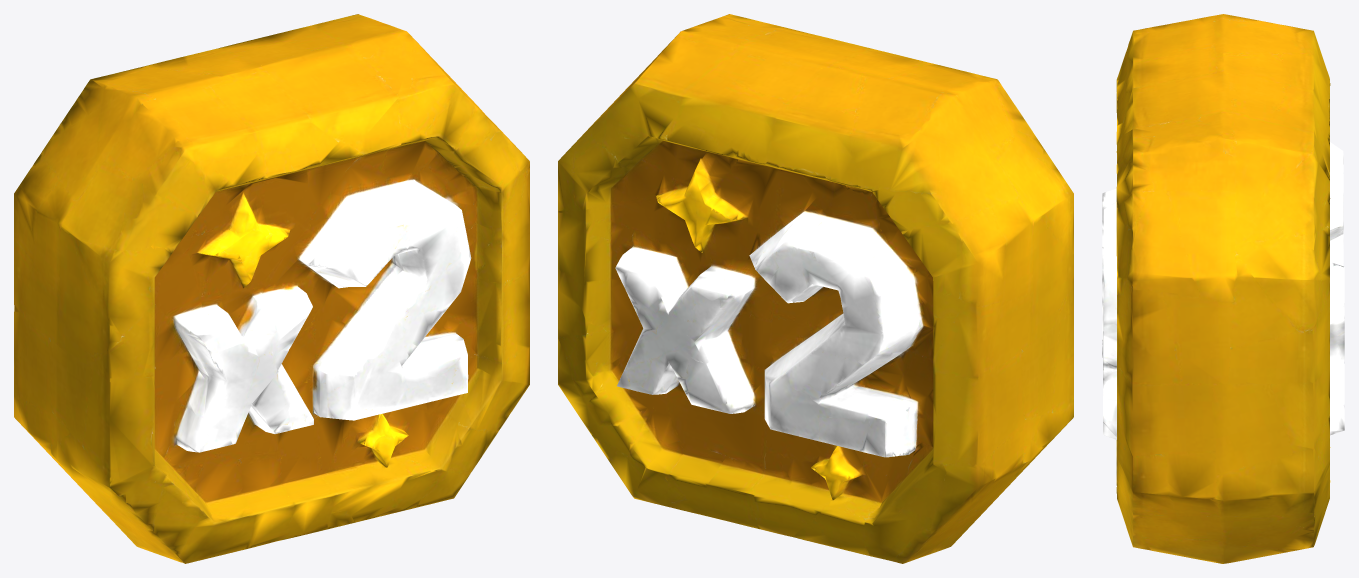
Rendered from multiplier.glb.
3 renders of one model, left to right at view 1: azimuth 30°, elevation 25°; view 2: azimuth 150°, elevation 25°; view 3: azimuth 270°, elevation 25°, orthographic. The views are drawn at different scales.
Bounding box in the file's own units: 1.9 × 1.9 × 0.9803.
1 material, 1 textured.
